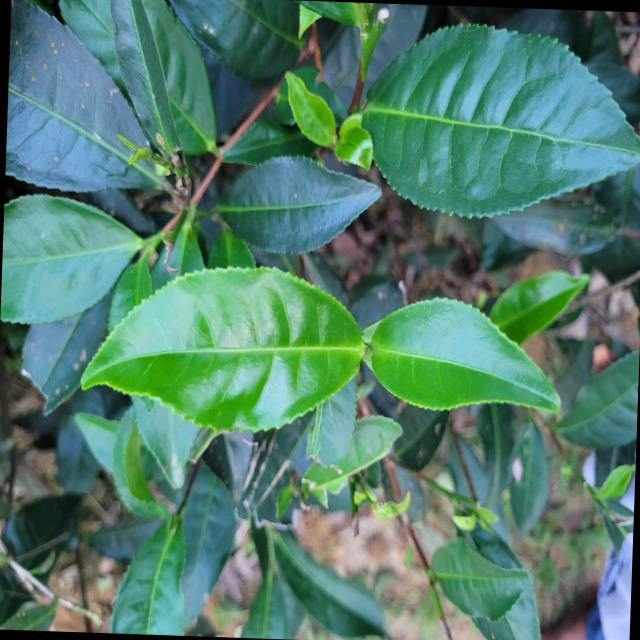Catagory A(1-2 days): (278, 68, 348, 146)
